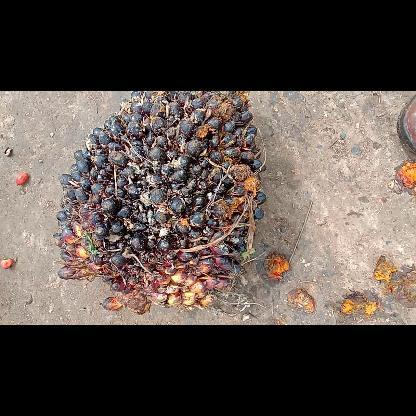TBS mentah: (49, 91, 272, 317)
